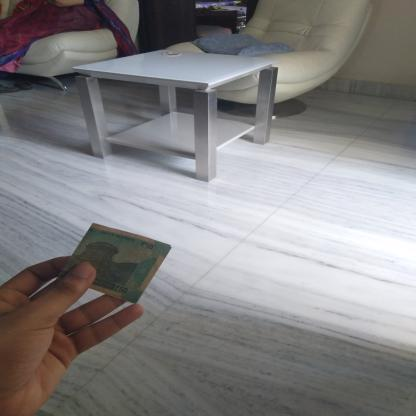New50Back: (69, 221, 167, 298)
